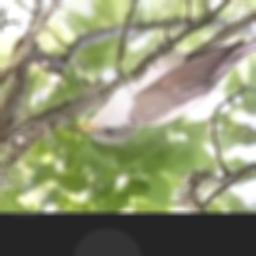Cuckoo: (71, 11, 256, 144)
